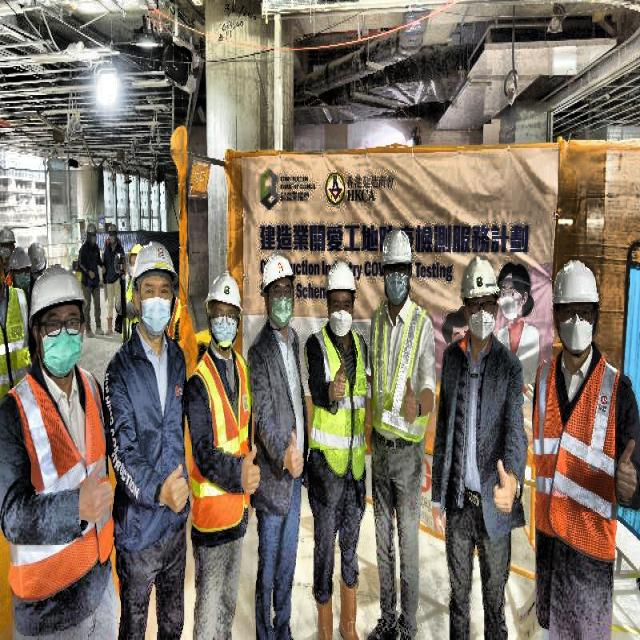safety_helmet: (30, 269, 90, 321), (550, 257, 600, 316), (130, 238, 181, 290), (459, 254, 501, 306), (202, 269, 245, 318), (374, 222, 416, 270), (256, 255, 297, 299), (378, 226, 416, 273), (324, 258, 358, 298), (27, 242, 53, 270), (7, 249, 33, 276), (0, 221, 13, 247), (106, 220, 124, 235), (86, 221, 98, 237)
safety_jacket: (4, 364, 116, 604), (530, 347, 622, 566), (182, 344, 254, 537), (304, 322, 370, 482), (364, 305, 433, 443), (0, 288, 34, 394), (102, 245, 125, 280)
